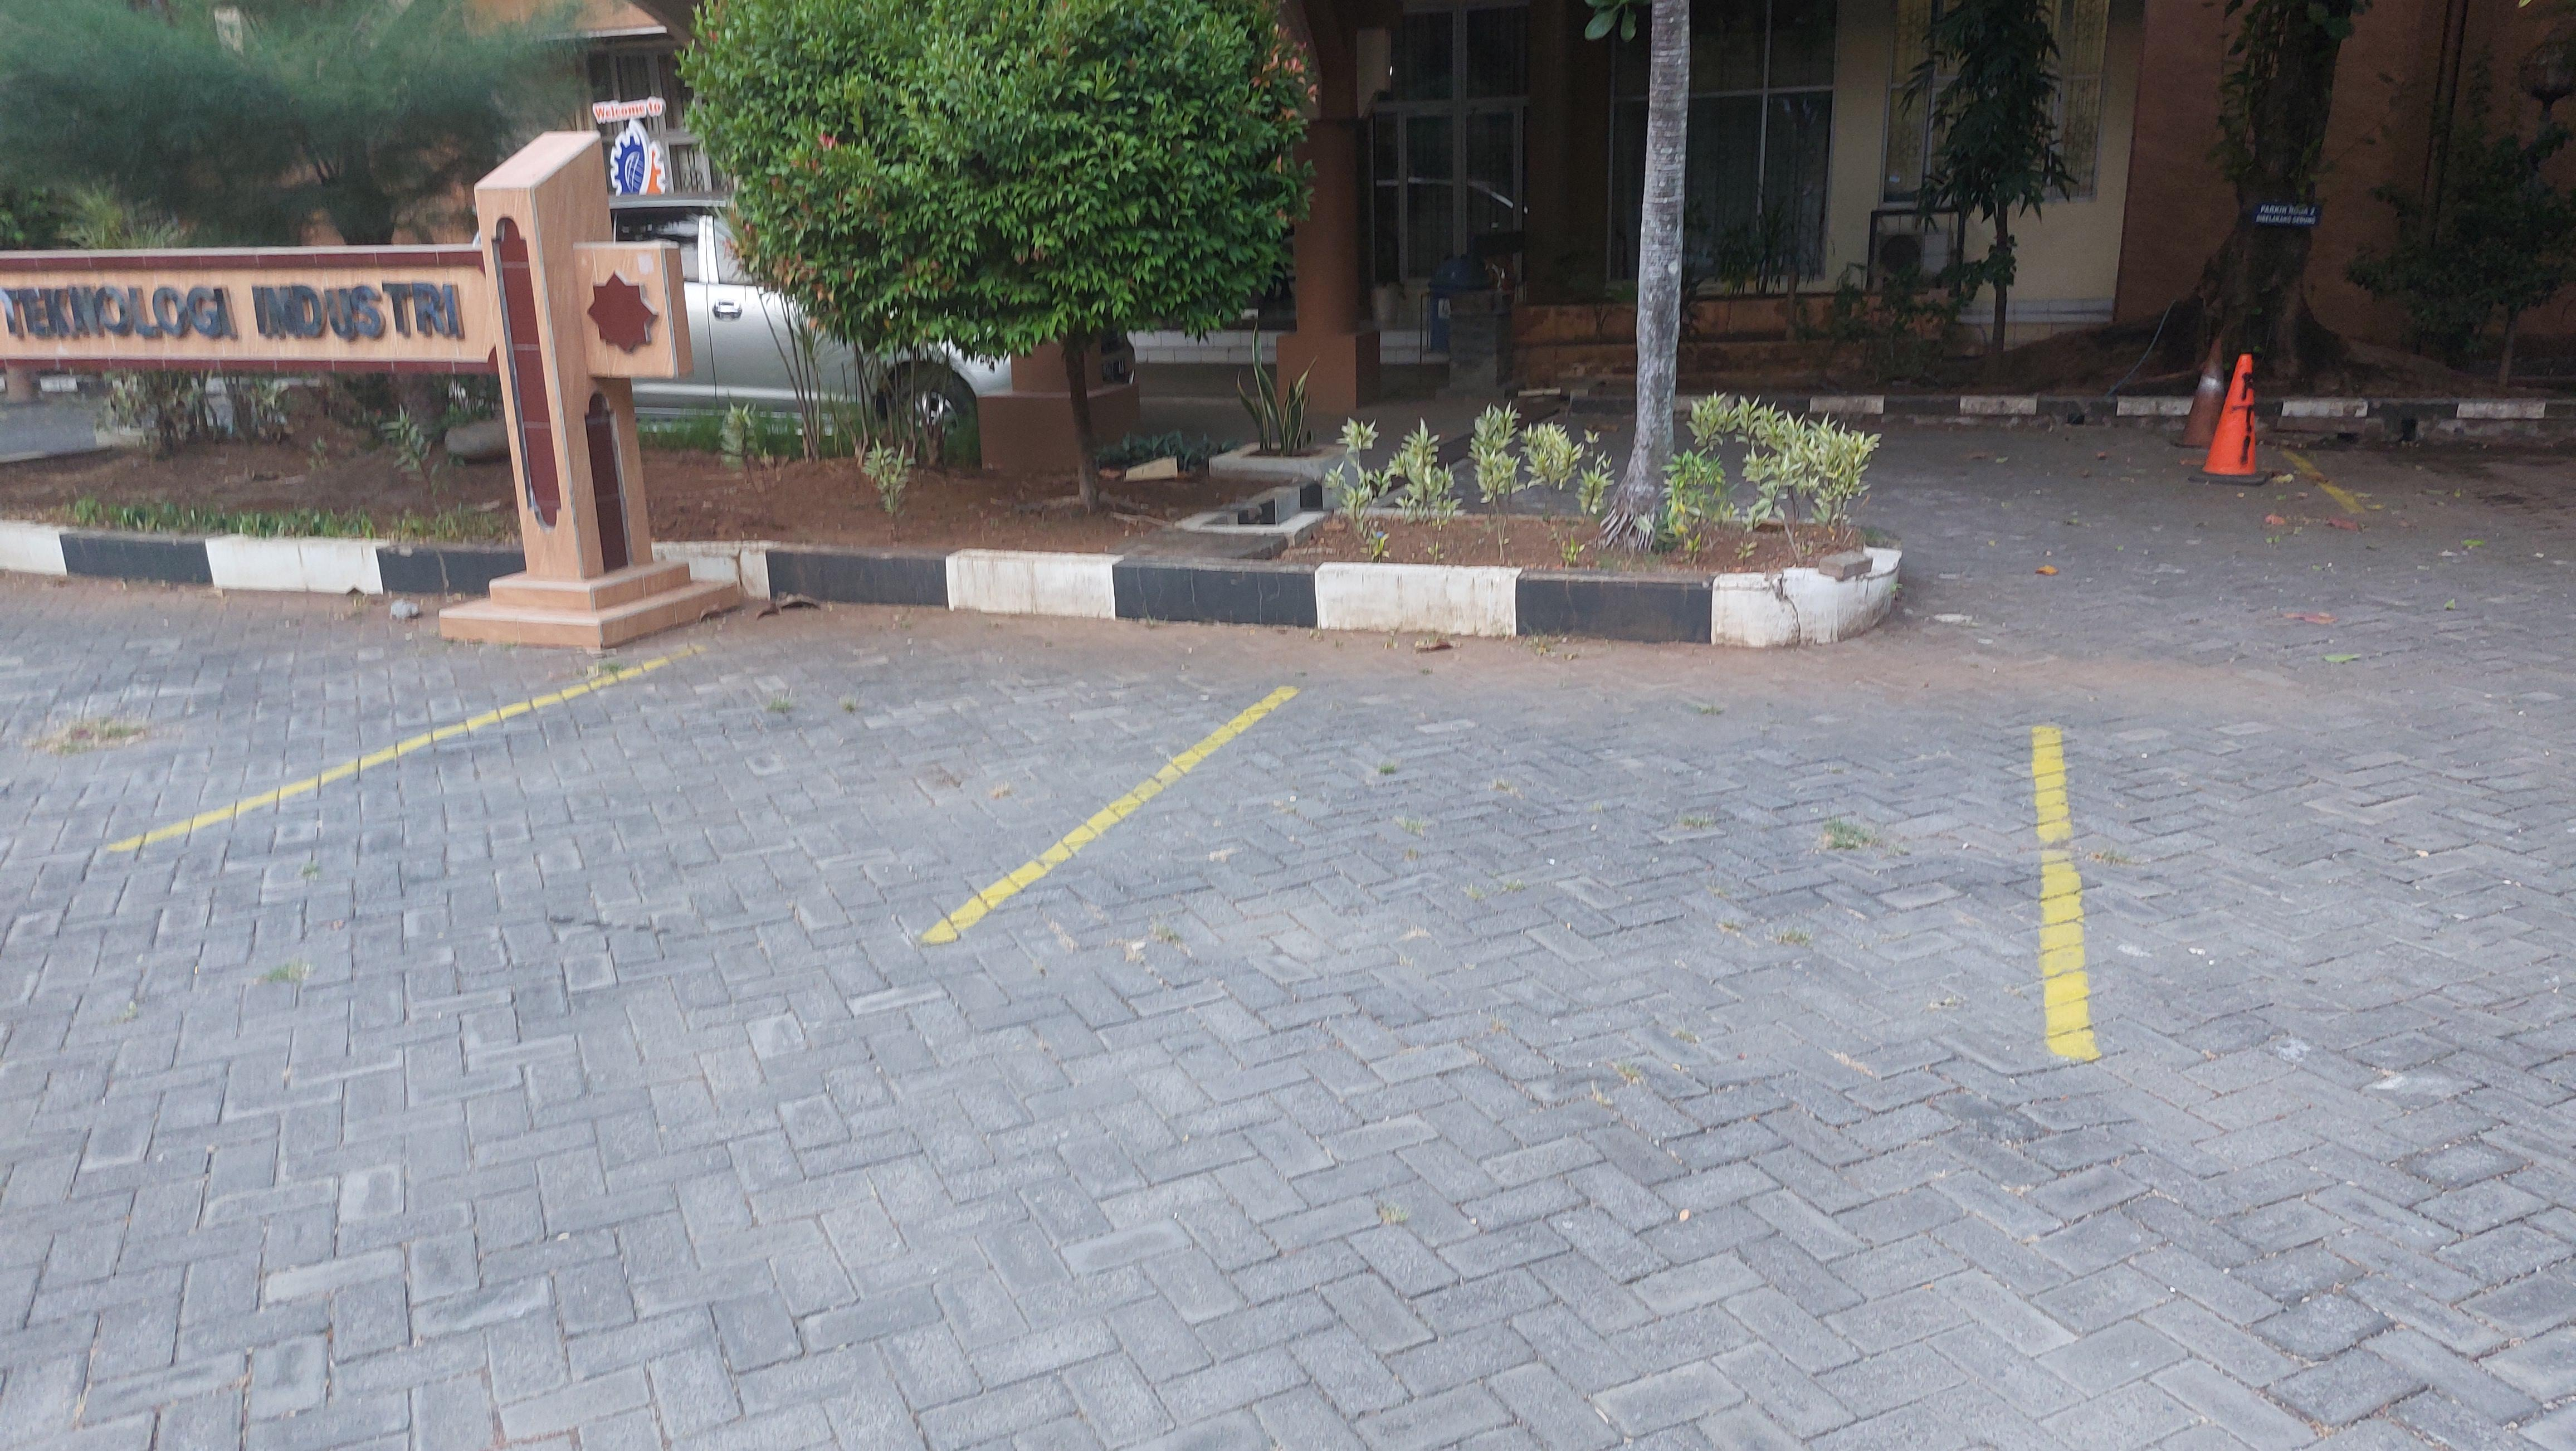empty: (930, 675, 2067, 1028), (126, 661, 1282, 934)
